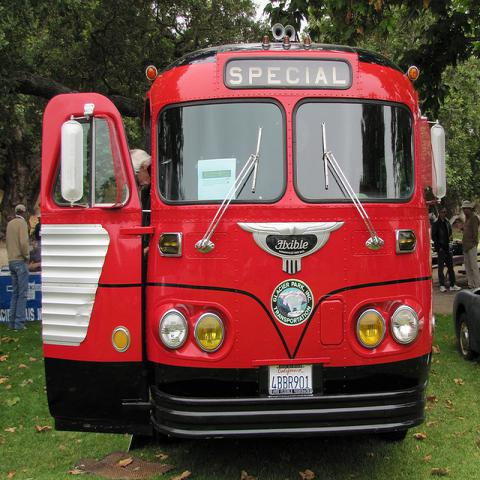bus: (39, 46, 433, 448)
car: (452, 285, 479, 364)
